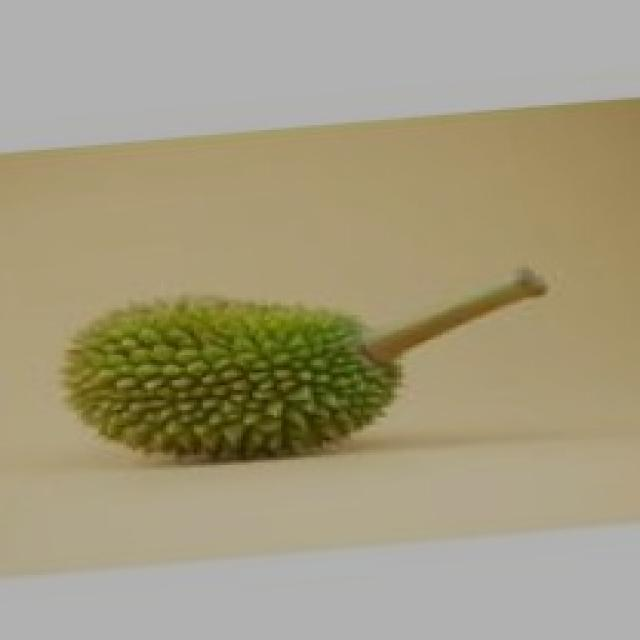fruit: (34, 258, 431, 518)
